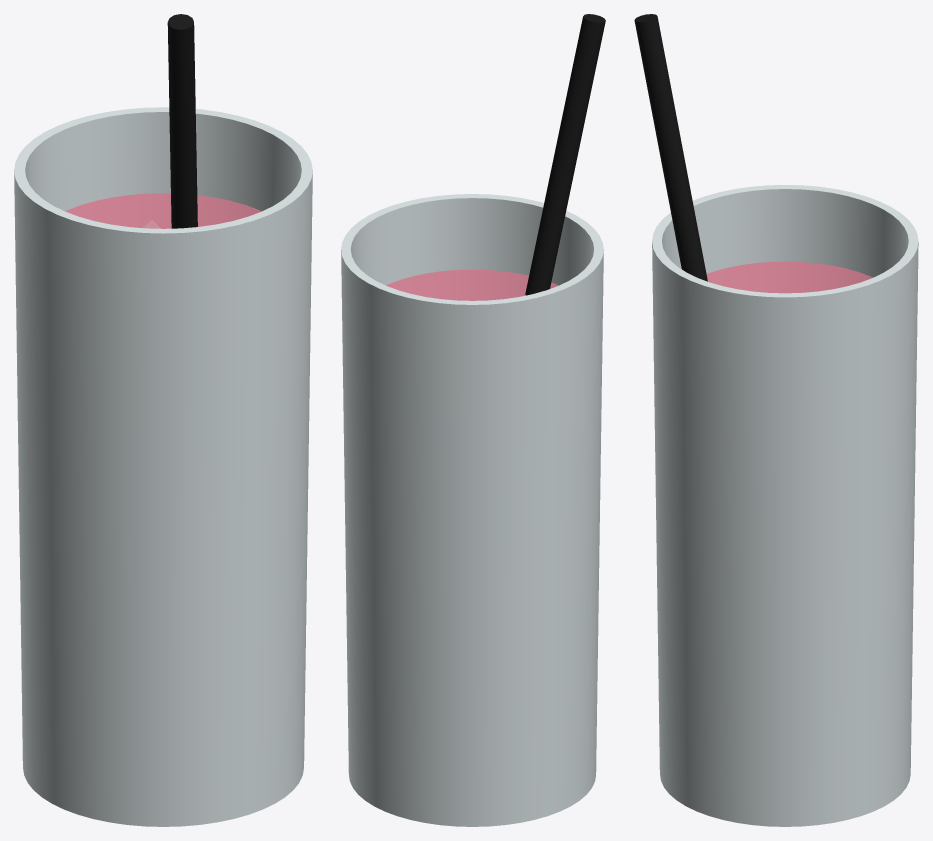
The model's file is long_drink-rosa.glb.
3 views of the same model, side by side, from view 1: azimuth 30°, elevation 25°; view 2: azimuth 150°, elevation 25°; view 3: azimuth 270°, elevation 25° (orthographic). The views are drawn at different scales.
Parts seen in each view (by area): view 1: long_drink-rosa; view 2: long_drink-rosa; view 3: long_drink-rosa.
Part boxes in pixels (x1=…): long_drink-rosa: x1=14, y1=14, x2=312, y2=826; long_drink-rosa: x1=341, y1=14, x2=605, y2=826; long_drink-rosa: x1=634, y1=14, x2=918, y2=826.
Size of the model in its own units: 0.068 by 0.206 by 0.0725.
